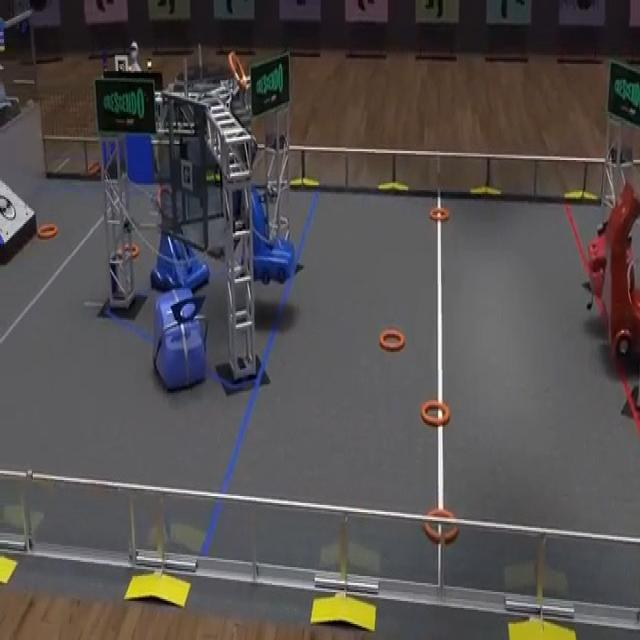notes: (424, 508, 458, 543), (378, 326, 407, 354), (422, 400, 450, 427), (428, 207, 450, 223), (38, 223, 58, 240), (122, 245, 138, 257)
